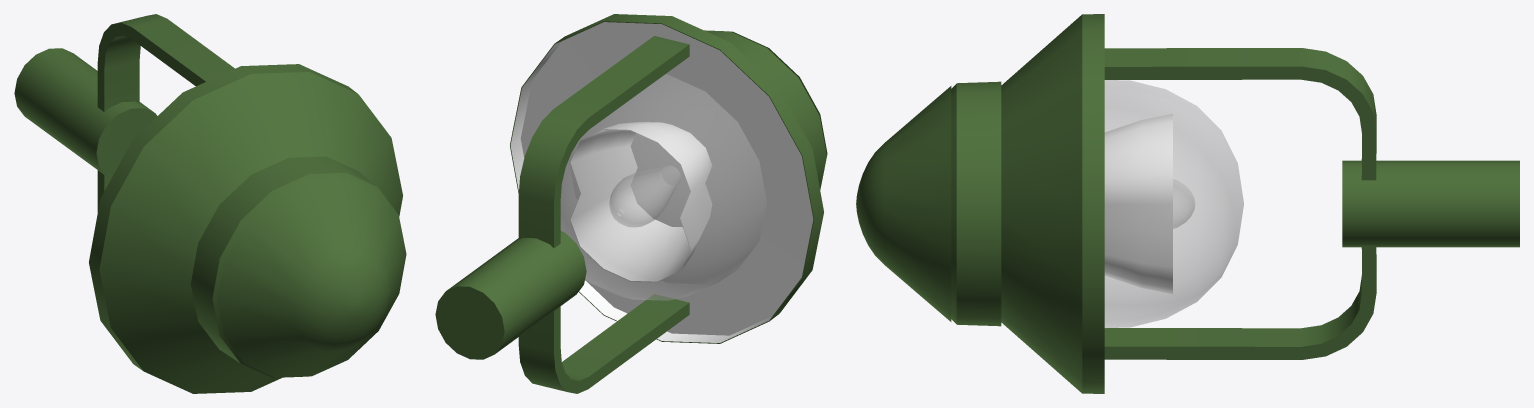
3 views of the same model, side by side, from view 1: azimuth 30°, elevation 25°; view 2: azimuth 150°, elevation 25°; view 3: azimuth 270°, elevation 25° (orthographic). The views are drawn at different scales.
Visible parts, largest first — view 1: Schirm_DL_304_BezierCurve.008, Cylinder.001_Cylinder.002, Schirmbuegel.001_BezierCurve.001; view 2: Schirm_DL_304_BezierCurve.008, Glas.001_BezierCurve.007, Reflektor.001_BezierCurve.003, Schirmbuegel.001_BezierCurve.001, Cylinder.001_Cylinder.002; view 3: Schirm_DL_304_BezierCurve.008, Glas.001_BezierCurve.007, Schirmbuegel.001_BezierCurve.001, Cylinder.001_Cylinder.002, Reflektor.001_BezierCurve.003.
Part boxes in pixels (x1,y1,x2,y2): Schirm_DL_304_BezierCurve.008: (89, 64, 406, 393); Cylinder.001_Cylinder.002: (14, 48, 157, 178); Schirmbuegel.001_BezierCurve.001: (97, 14, 234, 212); Schirm_DL_304_BezierCurve.008: (510, 14, 827, 343); Glas.001_BezierCurve.007: (560, 74, 766, 300); Reflektor.001_BezierCurve.003: (570, 122, 712, 282); Schirmbuegel.001_BezierCurve.001: (518, 36, 689, 393); Cylinder.001_Cylinder.002: (435, 231, 586, 359); Schirm_DL_304_BezierCurve.008: (856, 14, 1104, 393); Glas.001_BezierCurve.007: (1104, 80, 1243, 328); Schirmbuegel.001_BezierCurve.001: (1104, 48, 1376, 359); Cylinder.001_Cylinder.002: (1342, 160, 1519, 247); Reflektor.001_BezierCurve.003: (1104, 113, 1172, 294).
Size of the model in its own units: 0.4395 by 0.4395 by 0.767.
